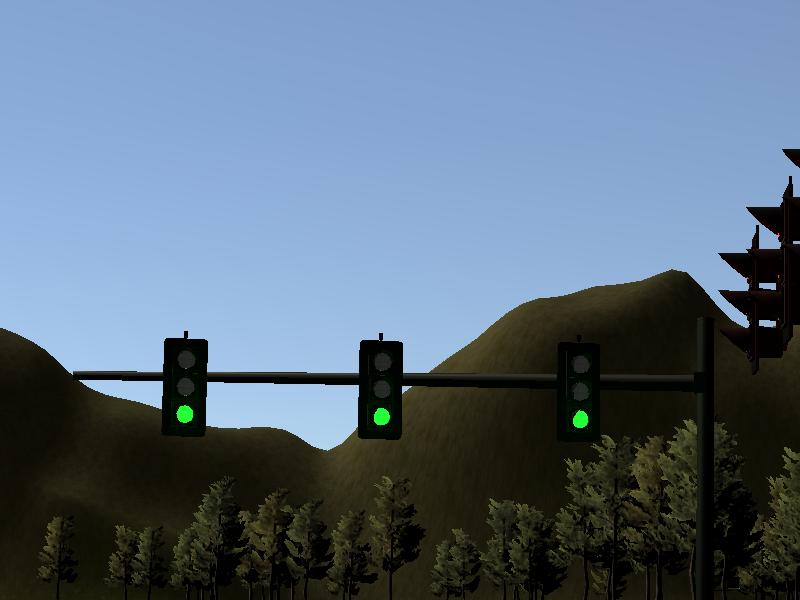not_red: (160, 335, 210, 435), (357, 338, 401, 438), (560, 351, 603, 446)
